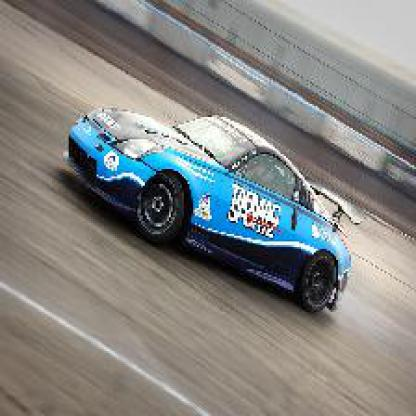not_emergency: (65, 84, 353, 329)
